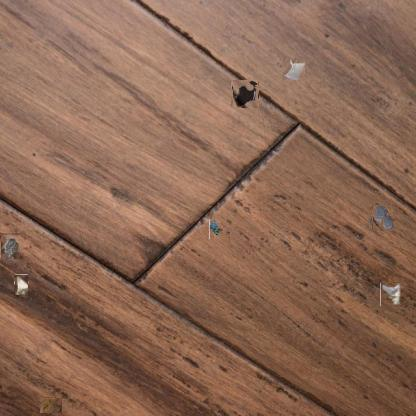dirty: (283, 57, 306, 81), (0, 233, 20, 260), (380, 282, 401, 306), (42, 396, 60, 414), (14, 274, 28, 295), (209, 219, 220, 239)
liquid: (231, 81, 259, 107), (370, 206, 394, 230)
